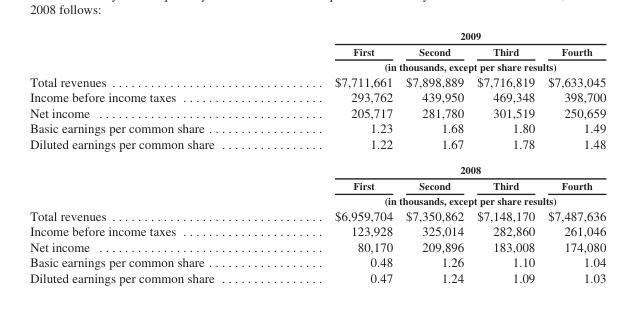table: (29, 29, 605, 284)
table column: (29, 29, 273, 284), (273, 29, 398, 284), (398, 29, 469, 284), (469, 29, 540, 284), (540, 29, 605, 284)
table column header: (29, 29, 605, 73)
table row: (29, 135, 605, 157), (29, 157, 605, 177), (29, 88, 605, 104), (29, 119, 605, 135), (29, 207, 605, 223), (29, 238, 605, 254), (29, 43, 605, 58), (29, 58, 605, 73), (29, 73, 605, 88), (29, 104, 605, 119), (29, 177, 605, 192), (29, 192, 605, 207), (29, 223, 605, 238), (29, 254, 605, 269), (29, 269, 605, 284), (29, 29, 605, 43)
table spanning cell: (273, 157, 605, 177), (273, 58, 605, 73), (273, 192, 605, 207), (273, 29, 605, 43)
